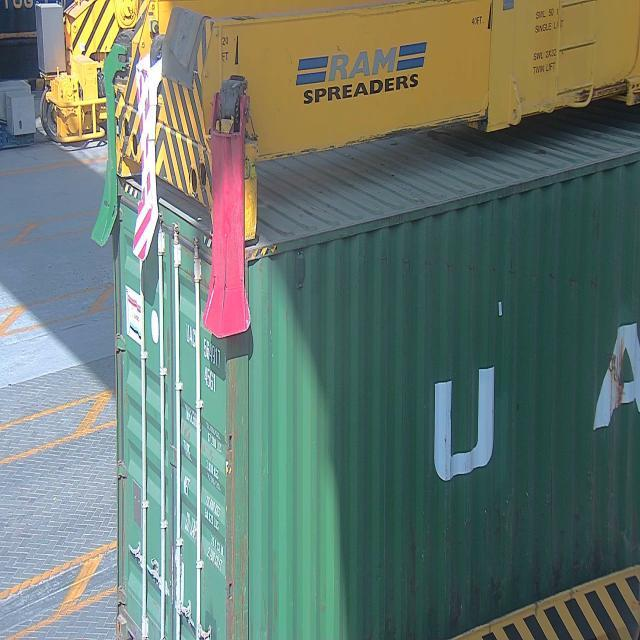rust: (607, 350, 631, 417)
